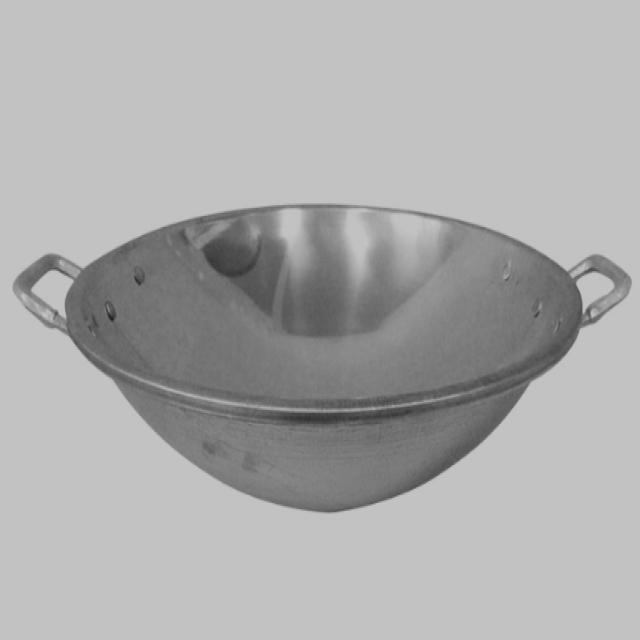Wajan: (3, 185, 630, 530)
